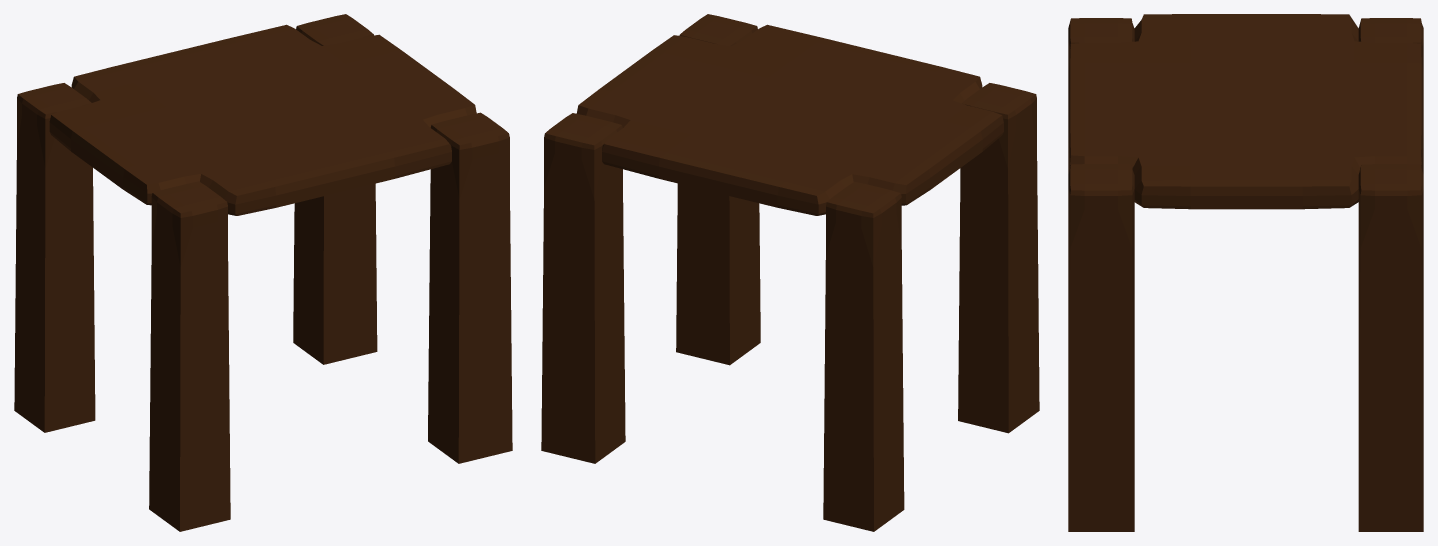
The model's file is mesaNochePadres.FBX.
The picture shows the model from 3 angles, left to right: view 1: azimuth 30°, elevation 25°; view 2: azimuth 150°, elevation 25°; view 3: azimuth 270°, elevation 25°; orthographic projection. The views are drawn at different scales.
Parts seen in each view (by area): view 1: Cube.006; view 2: Cube.006; view 3: Cube.006.
Part boxes in pixels (x1,y1,x2,y2): Cube.006: (14, 14, 512, 531); Cube.006: (541, 14, 1039, 531); Cube.006: (1068, 14, 1423, 531).
Size of the model in its own units: 91.32 by 84.32 by 78.74.
